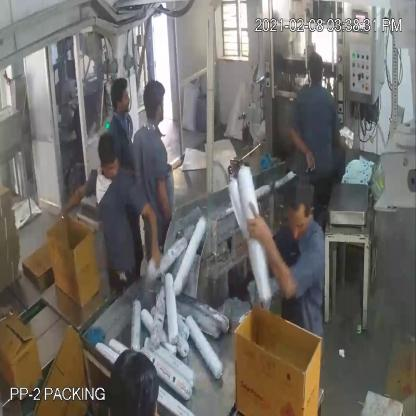no_glove: (244, 203, 299, 306), (134, 192, 166, 270), (282, 116, 316, 179), (58, 172, 90, 227), (157, 164, 178, 227)
